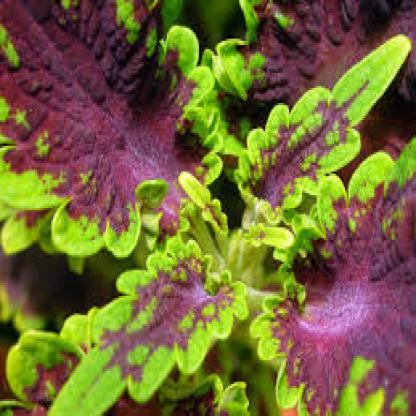Bunga Coleus: (9, 20, 399, 400)
